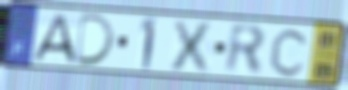1: (138, 15, 160, 72)
A: (29, 12, 78, 65)
C: (268, 26, 312, 78)
D: (72, 12, 118, 67)
R: (223, 22, 268, 78)
X: (167, 17, 218, 75)
